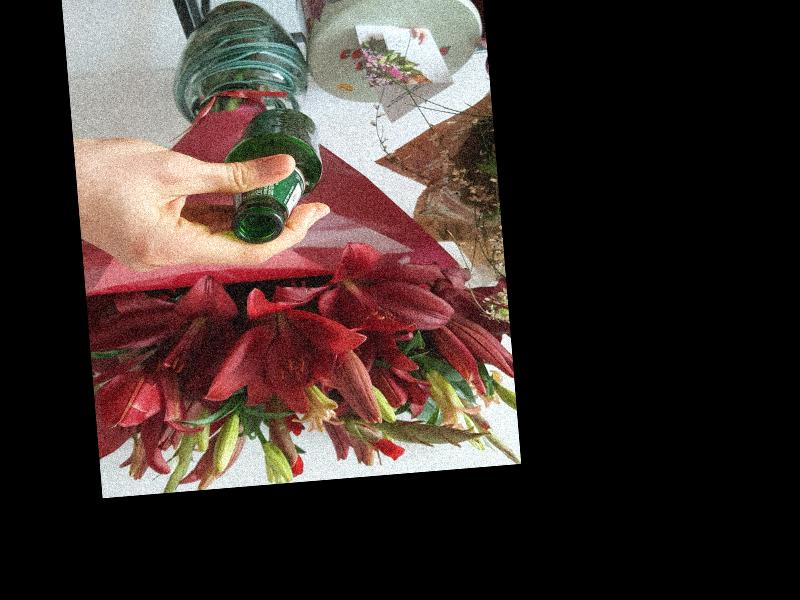Beer: (219, 105, 327, 246)
